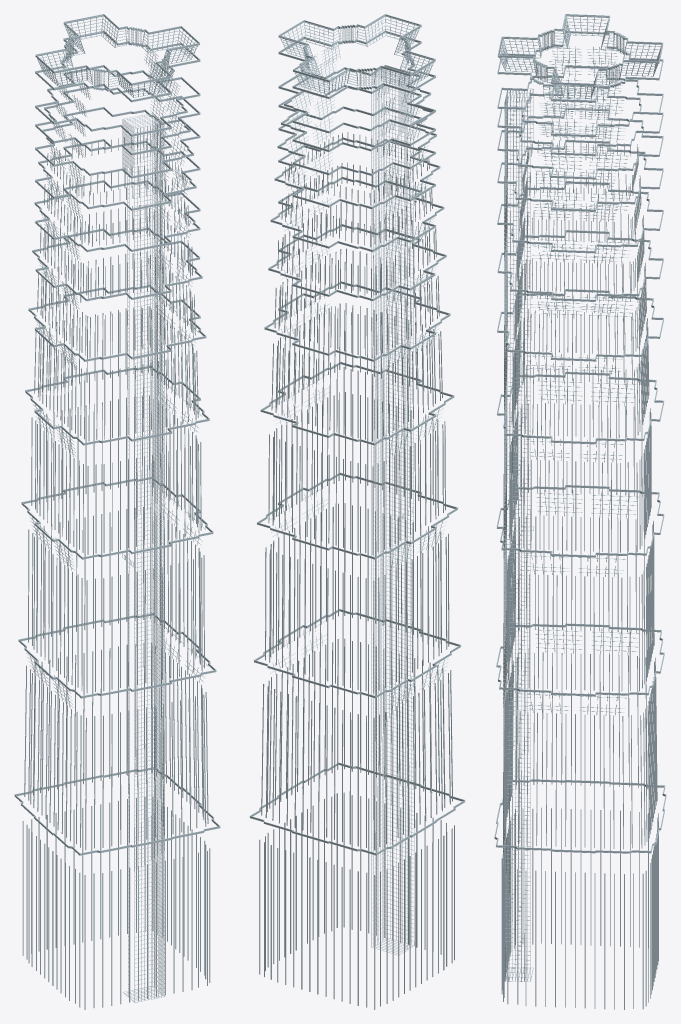
The model's file is lujiazui-16.glb.
The picture shows the model from 3 angles, left to right: view 1: azimuth 30°, elevation 25°; view 2: azimuth 150°, elevation 25°; view 3: azimuth 270°, elevation 25°; orthographic projection.
Parts seen in each view (by area): view 1: source_2865_Mat3d66-1303573-2119-613_part2; view 2: source_2865_Mat3d66-1303573-2119-613_part2; view 3: source_2865_Mat3d66-1303573-2119-613_part2.
Boxes of the visible parts, <box> form: source_2865_Mat3d66-1303573-2119-613_part2: <box>14,14,220,1009</box>; source_2865_Mat3d66-1303573-2119-613_part2: <box>249,14,465,1009</box>; source_2865_Mat3d66-1303573-2119-613_part2: <box>494,14,666,1009</box>.
Bounding box in the file's own units: 57.72 × 344 × 57.77.
